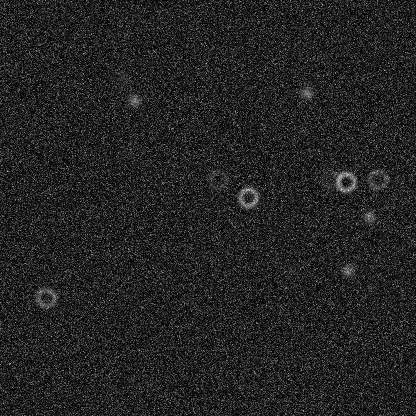Ring: (333, 169, 357, 193), (205, 167, 229, 191), (318, 166, 342, 190), (236, 185, 260, 209), (33, 285, 57, 309), (365, 167, 389, 191)
Spot: (126, 92, 142, 108), (298, 84, 314, 100), (339, 262, 355, 278), (360, 208, 376, 224), (114, 68, 130, 84)
